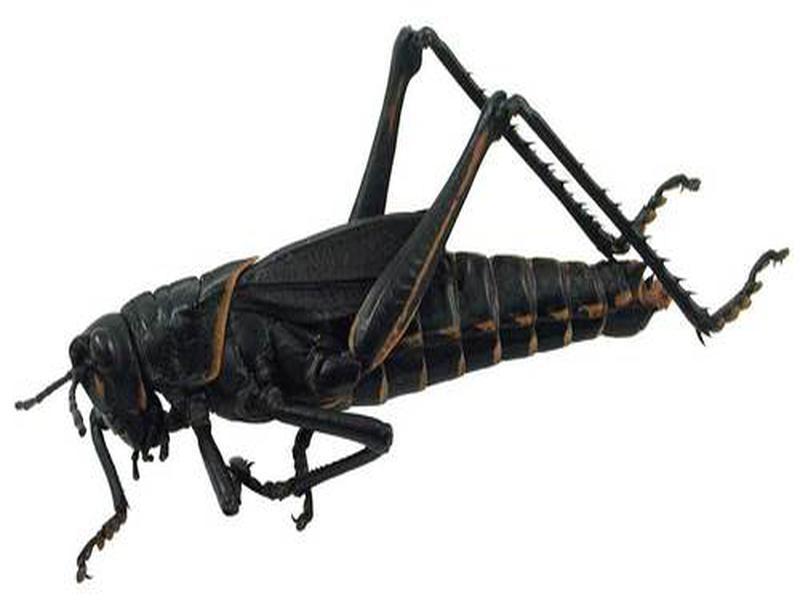Grasshopper: (40, 44, 789, 525)
